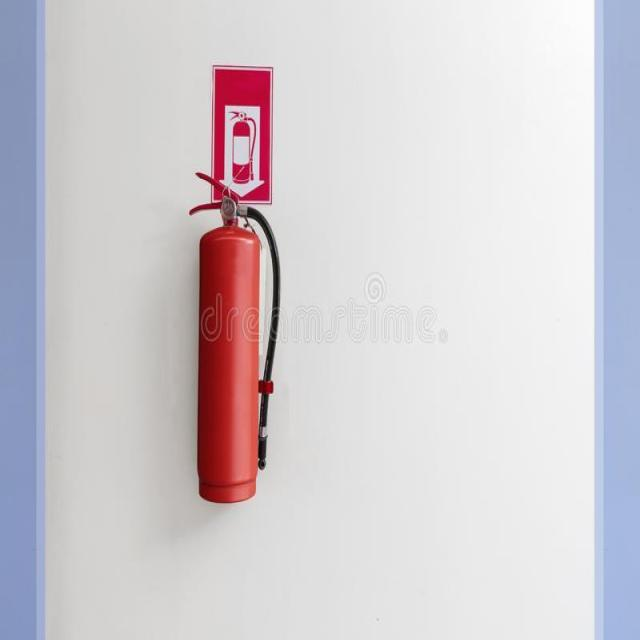fire_extinguisher: (184, 164, 282, 508)
